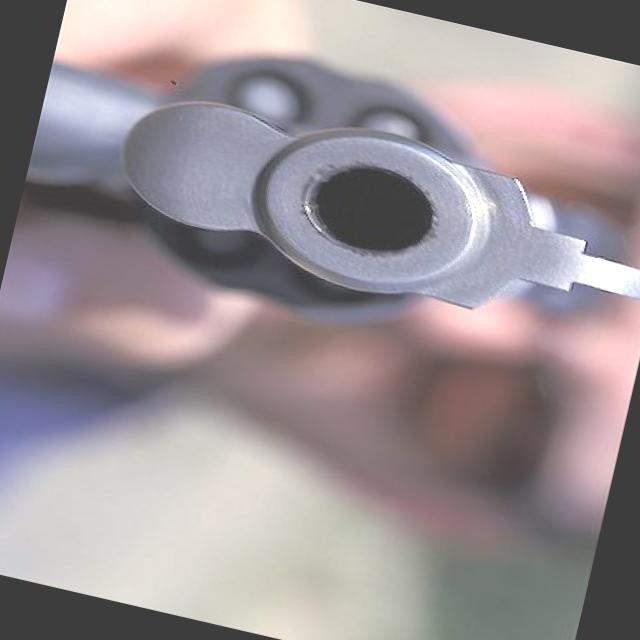handgun: (14, 0, 639, 386)
